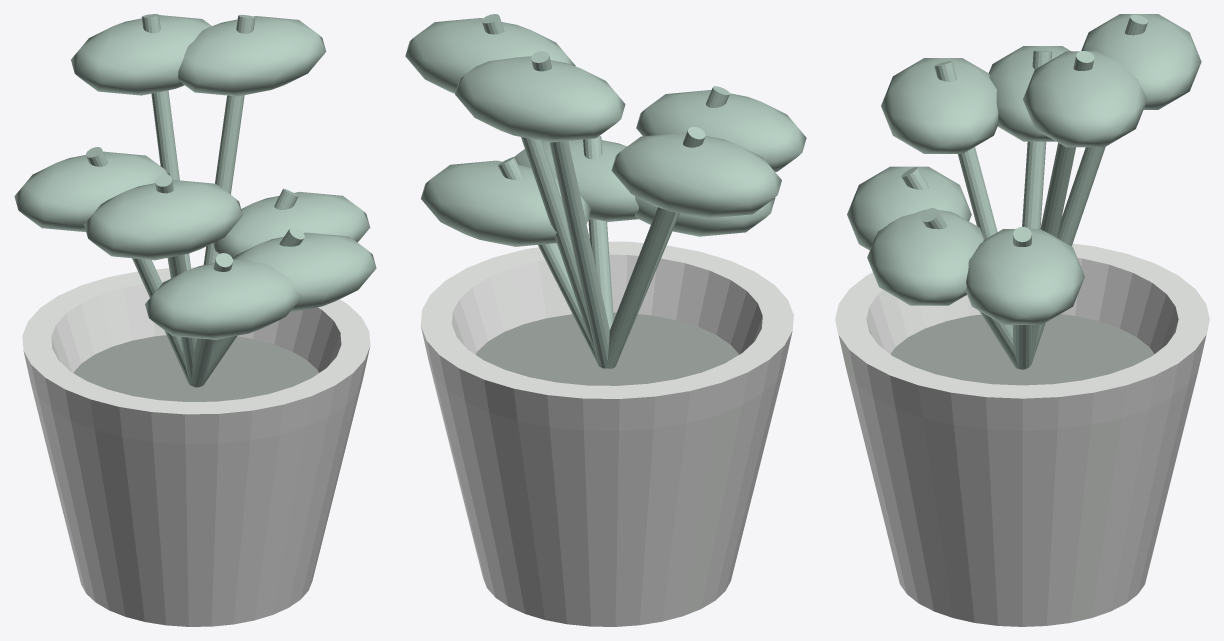
The model's file is sculpted_planter.glb.
The picture shows the model from 3 angles, left to right: view 1: azimuth 30°, elevation 25°; view 2: azimuth 150°, elevation 25°; view 3: azimuth 270°, elevation 25°; orthographic projection. The views are drawn at different scales.
Parts seen in each view (by area): view 1: decor_d8dcd8_matte, decor_729986_matte, decor_58625a_matte; view 2: decor_d8dcd8_matte, decor_729986_matte, decor_58625a_matte; view 3: decor_d8dcd8_matte, decor_729986_matte, decor_58625a_matte.
Boxes of the visible parts, x1,y1,x2,y2 form: decor_d8dcd8_matte: (22,267,370,626); decor_729986_matte: (14,14,376,387); decor_58625a_matte: (73,335,318,401); decor_d8dcd8_matte: (420,241,793,626); decor_729986_matte: (405,14,806,368); decor_58625a_matte: (475,312,739,385); decor_d8dcd8_matte: (835,243,1209,626); decor_729986_matte: (847,14,1201,369); decor_58625a_matte: (890,314,1154,385).
Bounding box in the file's own units: 0.8872 × 1.31 × 0.792.
